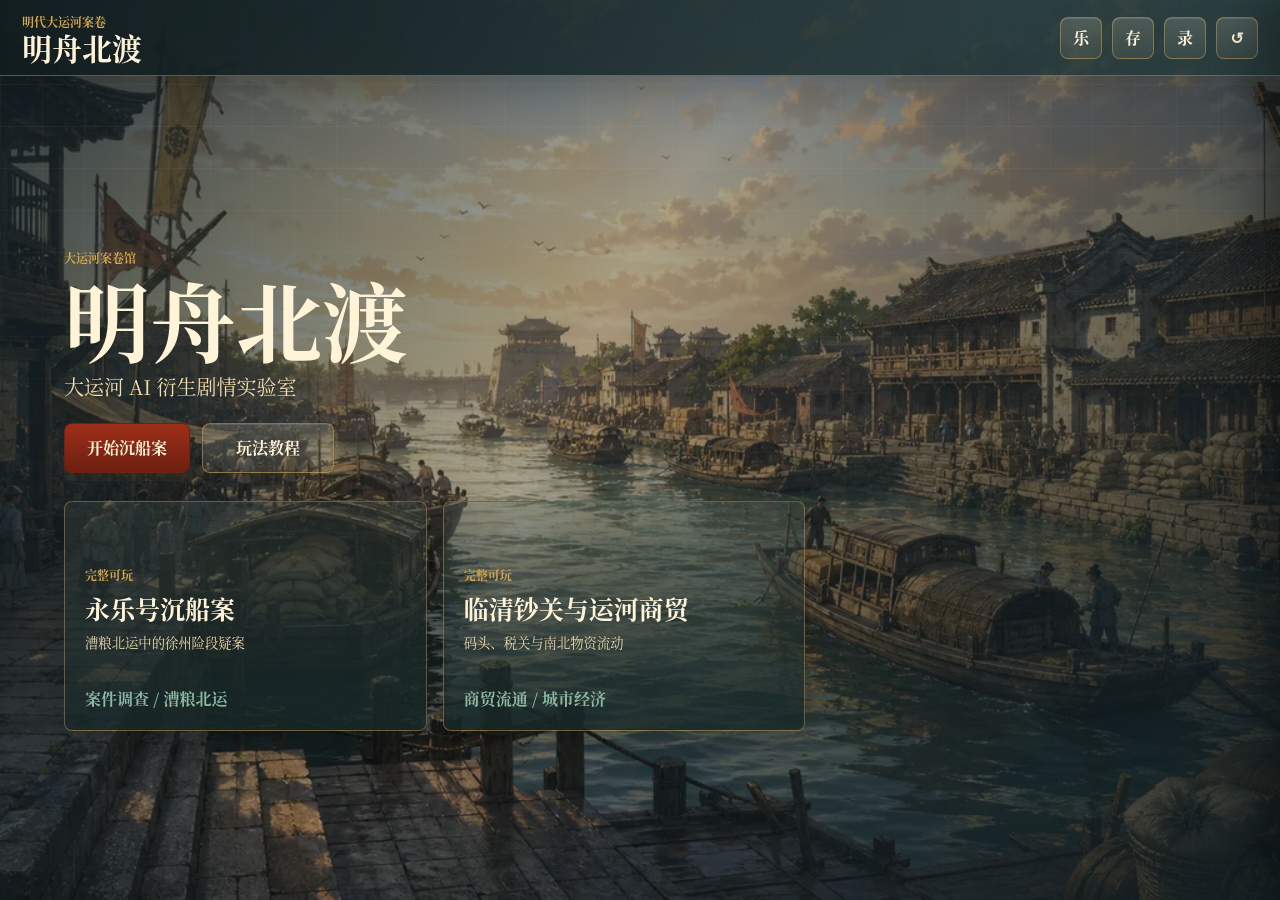
Test: App › opens the gameplay tutorial from the home view
Step 1. Click the button "玩法教程" → coordinates (268, 448), box x1=202 y1=423 x2=334 y2=473
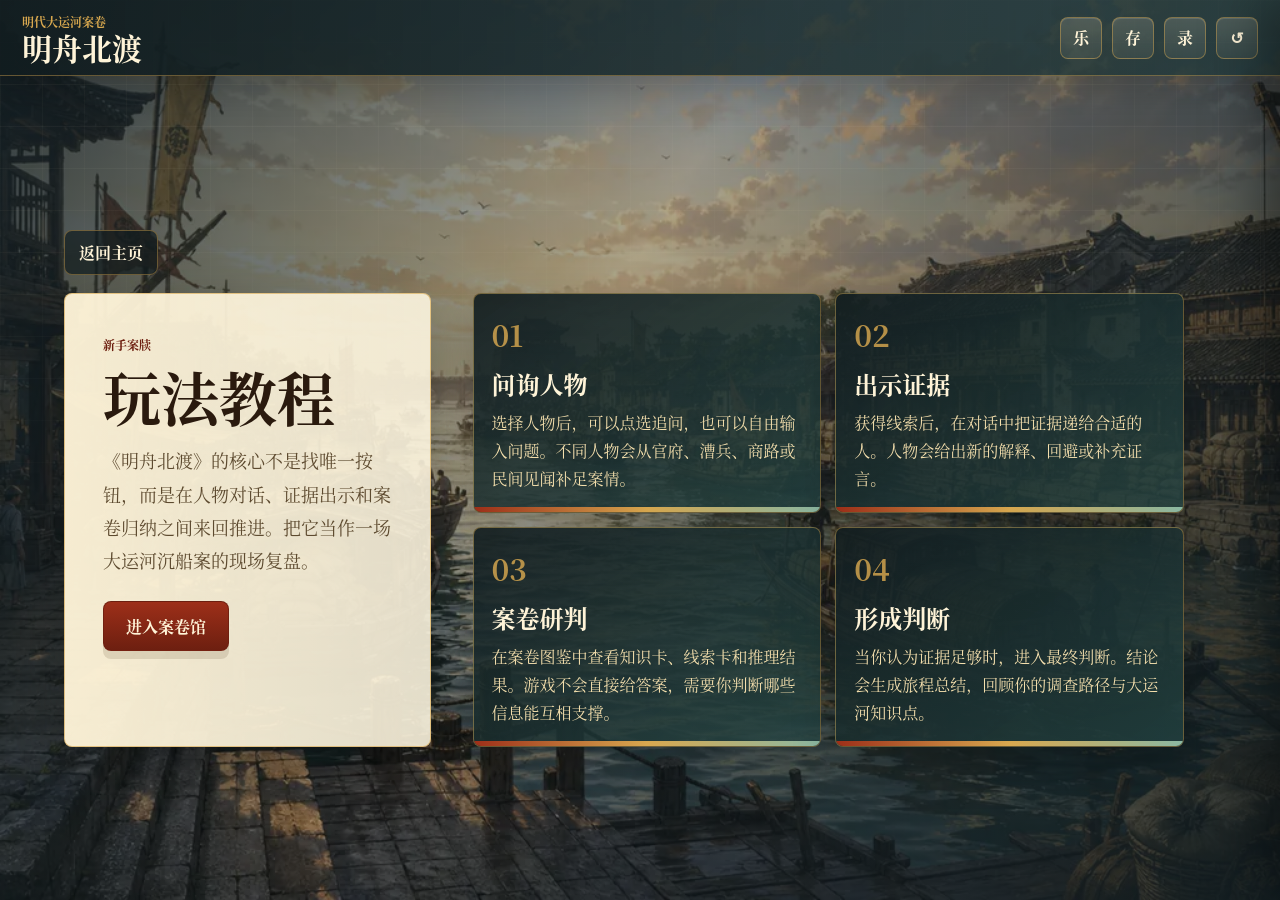
Expected: the heading "玩法教程" is shown, x1=103 y1=354 x2=335 y2=438
Expected: the text "问询人物" is shown, x1=492 y1=366 x2=588 y2=400
Expected: the text "出示证据" is shown, x1=854 y1=366 x2=950 y2=400
